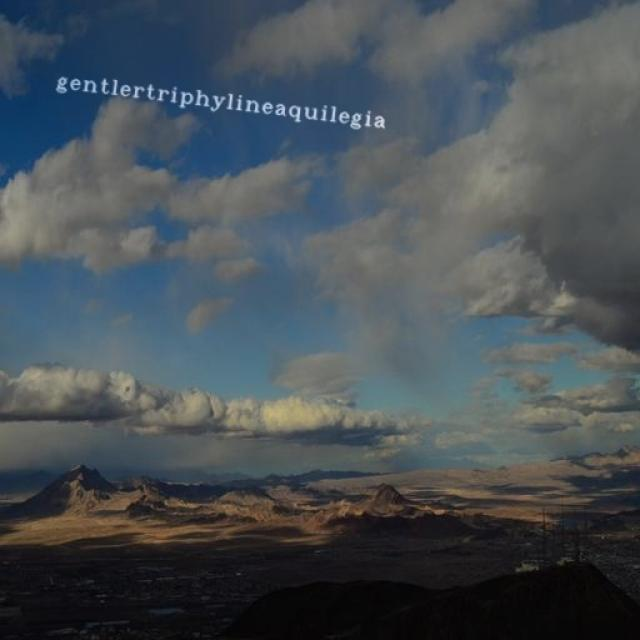watermark: (49, 70, 402, 130)
